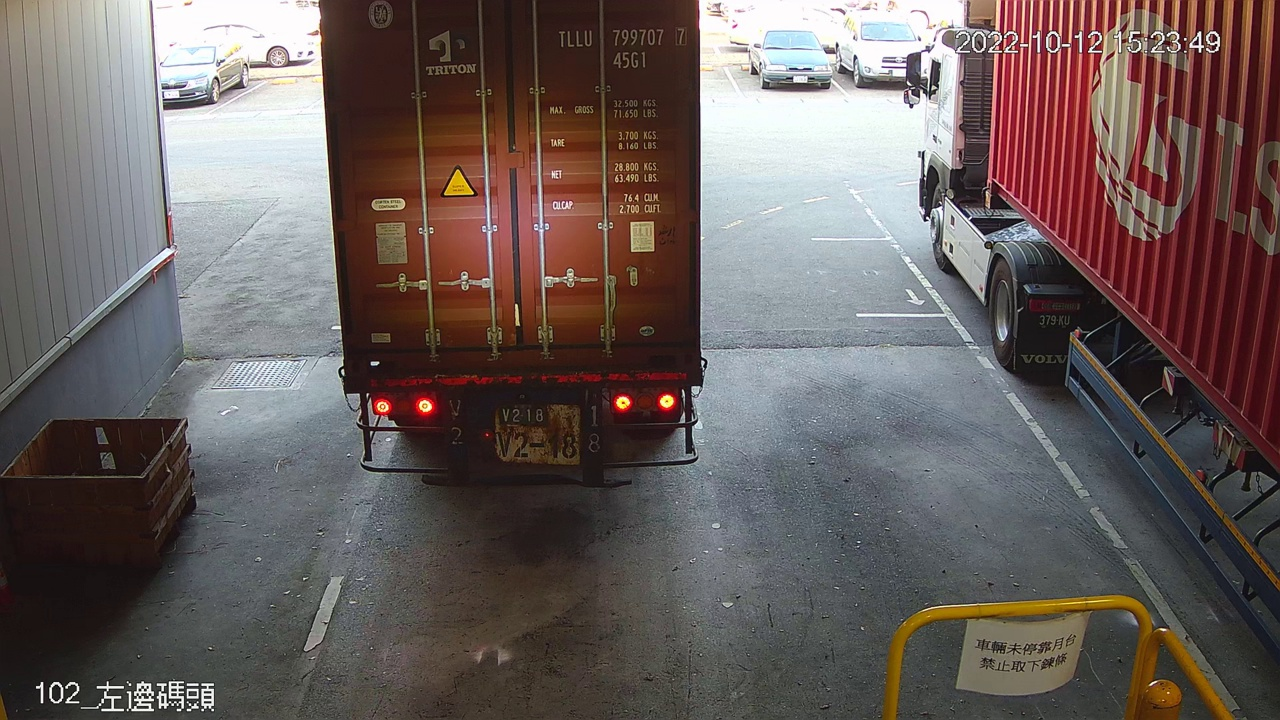container: (552, 20, 693, 73)
